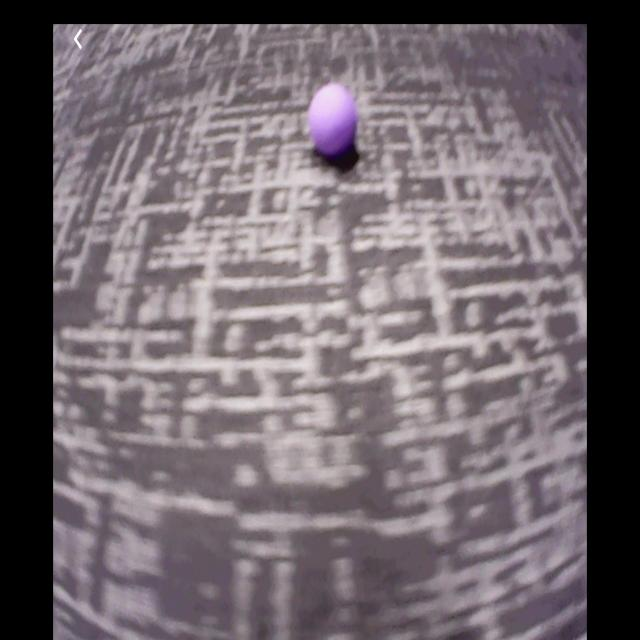ball: (310, 83, 358, 154)
